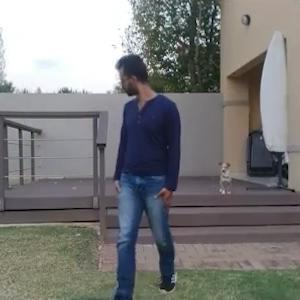follow: (88, 37, 184, 280)
